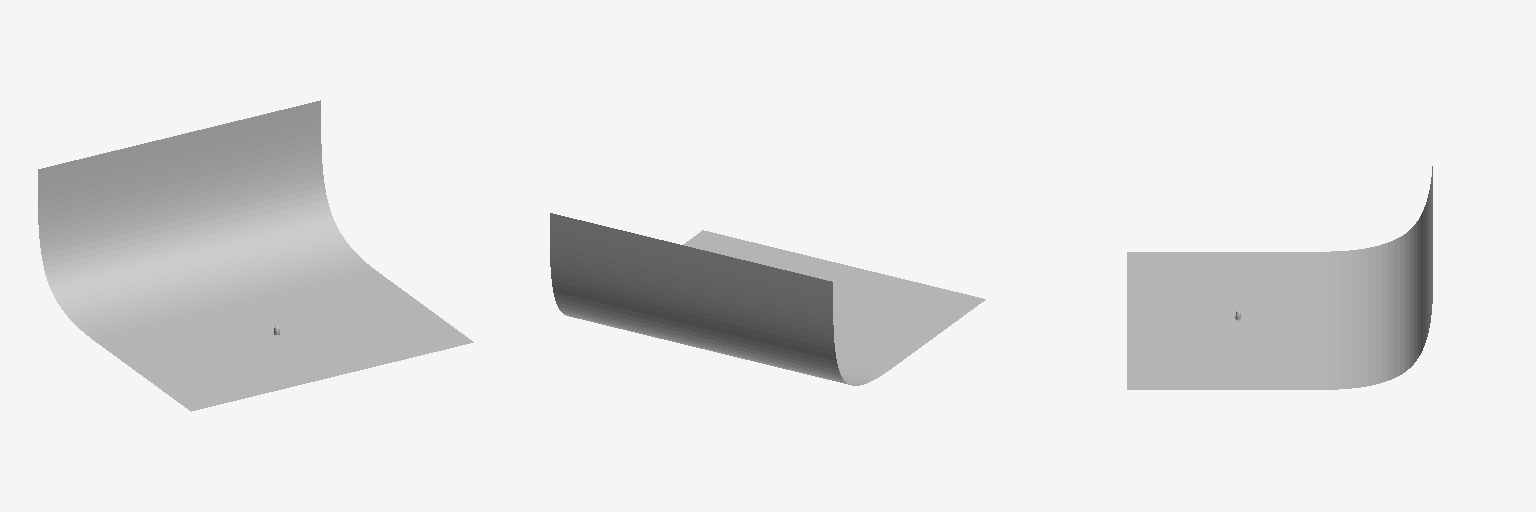
The model's file is Versão1__MENNY.obj.
The picture shows the model from 3 angles: view 1: azimuth 30°, elevation 25°; view 2: azimuth 150°, elevation 25°; view 3: azimuth 270°, elevation 25°; orthographic projection.
Visible parts, largest first — view 1: base_plane; view 2: base_plane; view 3: base_plane.
Boxes of the visible parts, box(x1,y1,x2,y2) form: base_plane: box(38, 100, 473, 411); base_plane: box(550, 213, 985, 385); base_plane: box(1127, 166, 1432, 389).
Size of the model in its own units: 1600 by 700 by 1500.